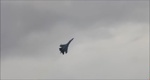maybay_muctieu: (58, 37, 74, 55)
